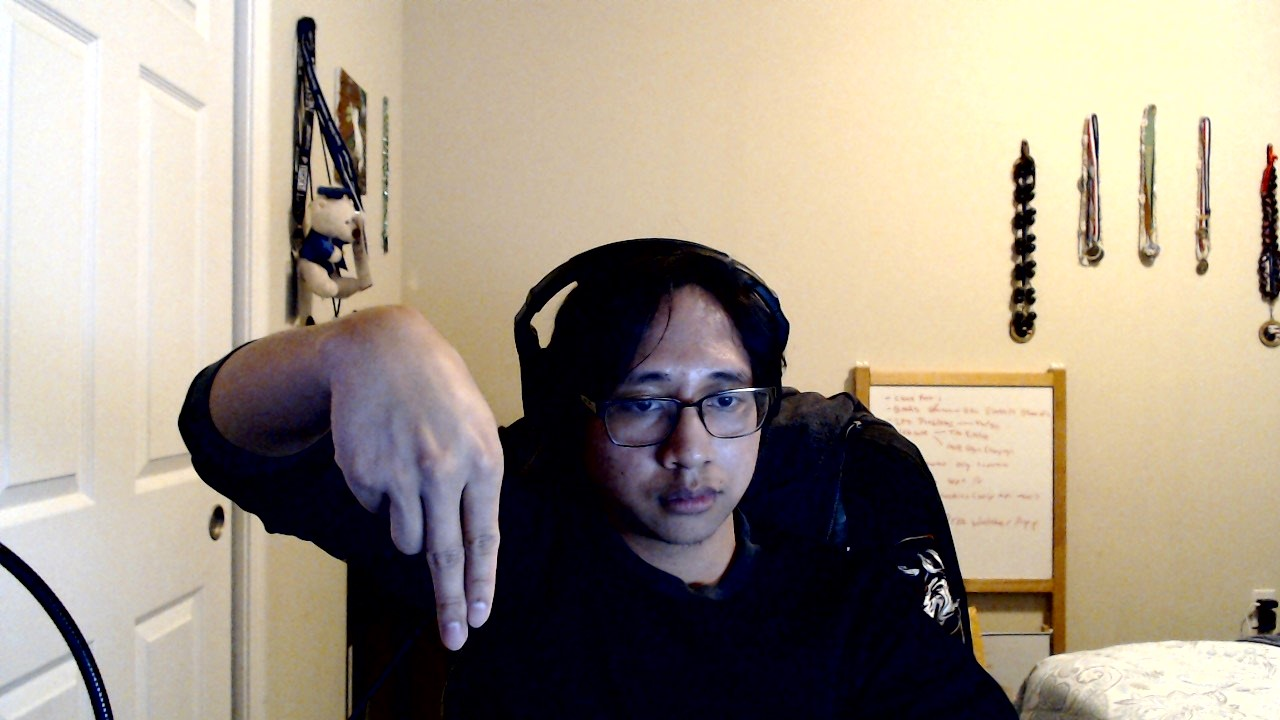n: (329, 303, 506, 653)
